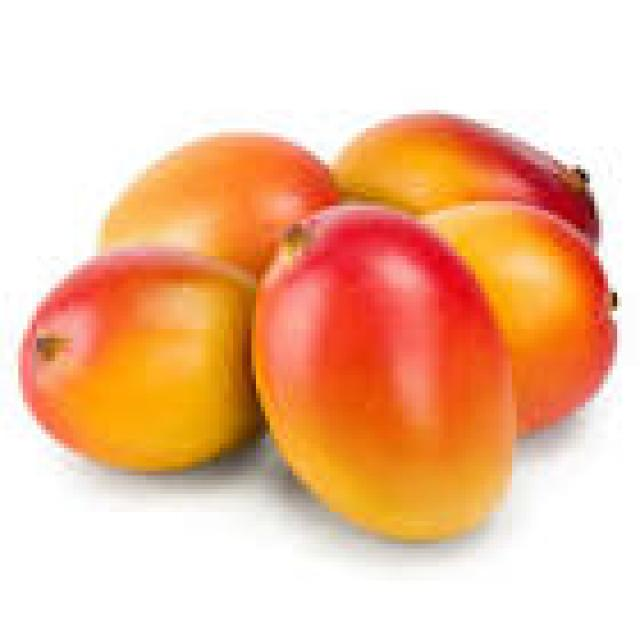mango: (256, 208, 516, 540), (21, 249, 255, 471), (424, 202, 616, 432), (332, 112, 598, 242), (102, 134, 336, 276)
